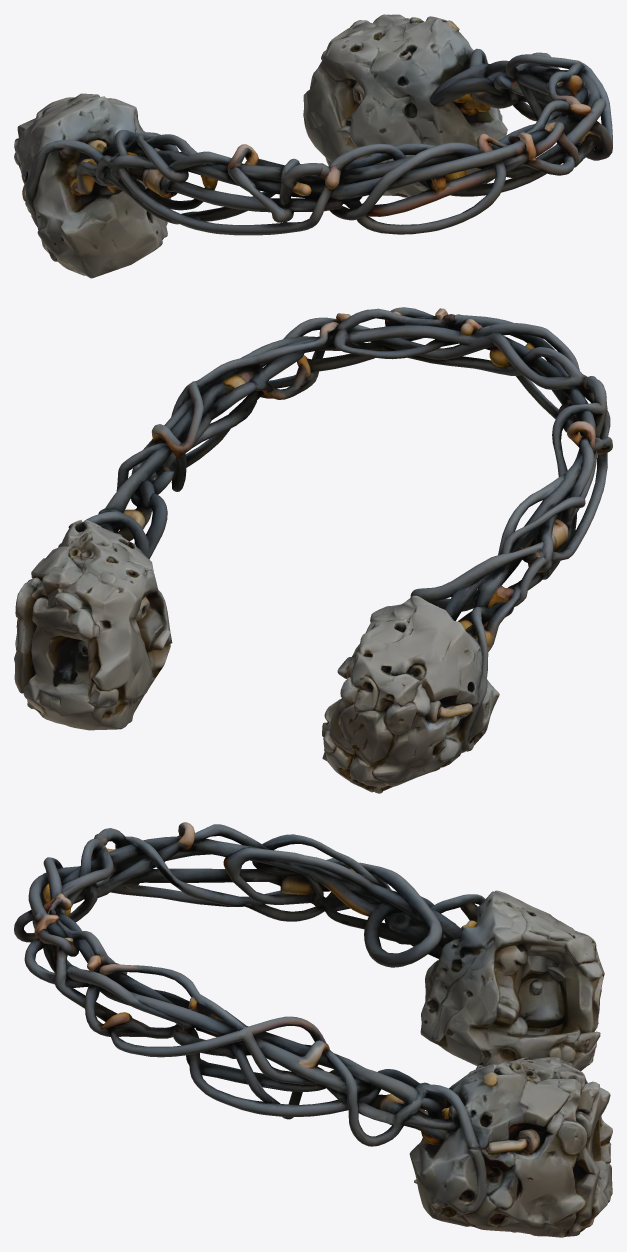
The model's file is earbuds_v2.glb.
3 renders of one model, top to bottom at view 1: azimuth 30°, elevation 25°; view 2: azimuth 150°, elevation 25°; view 3: azimuth 270°, elevation 25°, orthographic. The views are drawn at different scales.
Parts seen in each view (by area): view 1: tripo_node_6f2a0c8b-0cf4-433c-8f80-f4c51d03a862; view 2: tripo_node_6f2a0c8b-0cf4-433c-8f80-f4c51d03a862; view 3: tripo_node_6f2a0c8b-0cf4-433c-8f80-f4c51d03a862.
Part boxes in pixels (box(x1,y1,x2,y2)): tripo_node_6f2a0c8b-0cf4-433c-8f80-f4c51d03a862: box(14, 14, 612, 278); tripo_node_6f2a0c8b-0cf4-433c-8f80-f4c51d03a862: box(14, 307, 612, 793); tripo_node_6f2a0c8b-0cf4-433c-8f80-f4c51d03a862: box(14, 822, 612, 1237).
Bounding box in the file's own units: 0.8704 × 0.4895 × 0.9994.
1 material, 1 textured.
